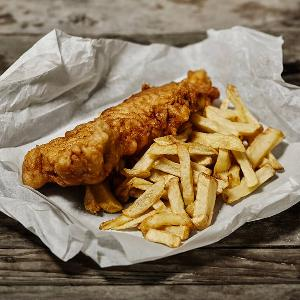fries: (143, 142, 288, 247)
